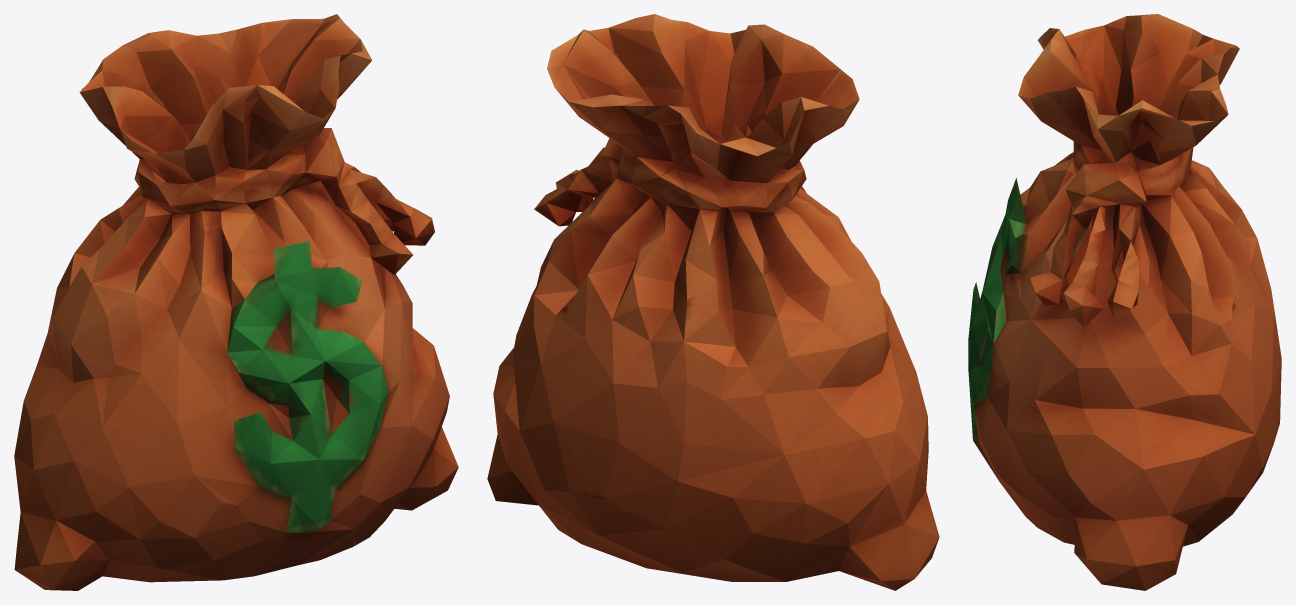
The model's file is money_bag.glb.
3 renders of one model, left to right at view 1: azimuth 30°, elevation 25°; view 2: azimuth 150°, elevation 25°; view 3: azimuth 270°, elevation 25°, orthographic. The views are drawn at different scales.
Visible parts, largest first — view 1: geometry_0; view 2: geometry_0; view 3: geometry_0.
Part boxes in pixels (bbox=[...]): geometry_0: bbox=[14, 14, 458, 590]; geometry_0: bbox=[487, 14, 939, 590]; geometry_0: bbox=[968, 14, 1281, 590].
Bounding box in the file's own units: 0.8929 × 0.9985 × 0.617.
Materials: 1 (1 with a texture image).
